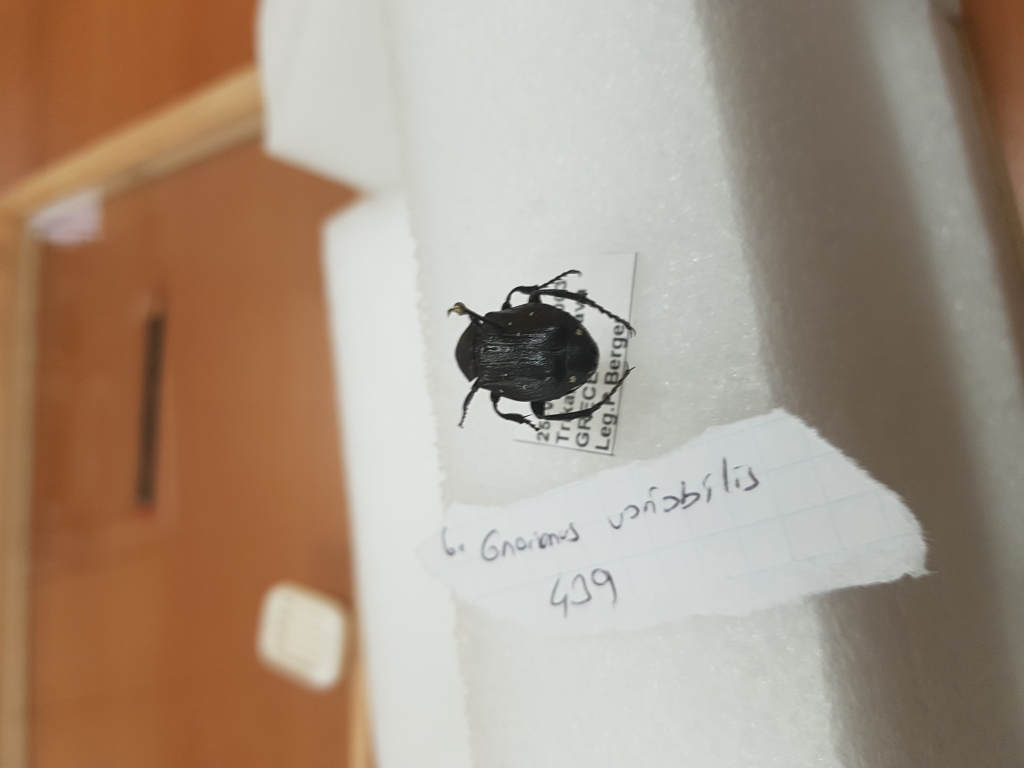Gnorimus_variabilis: (446, 267, 642, 434)
